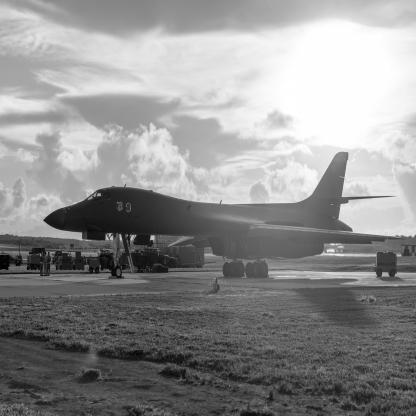B1: (44, 152, 408, 280)
